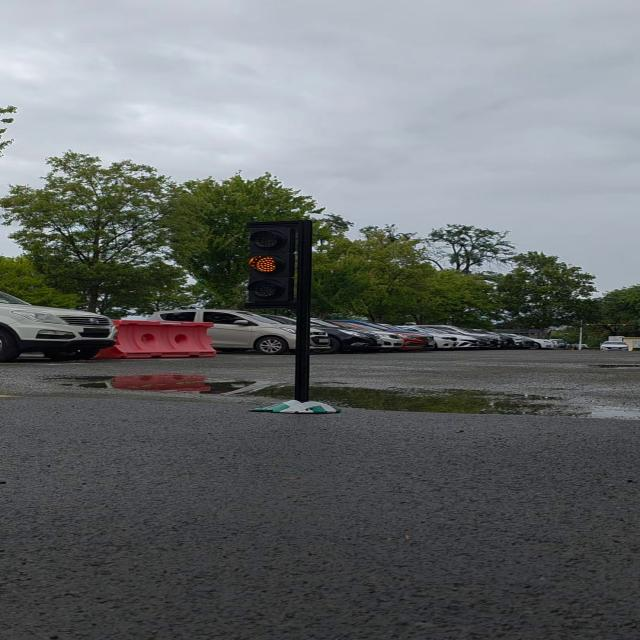yellow: (242, 216, 306, 312)
